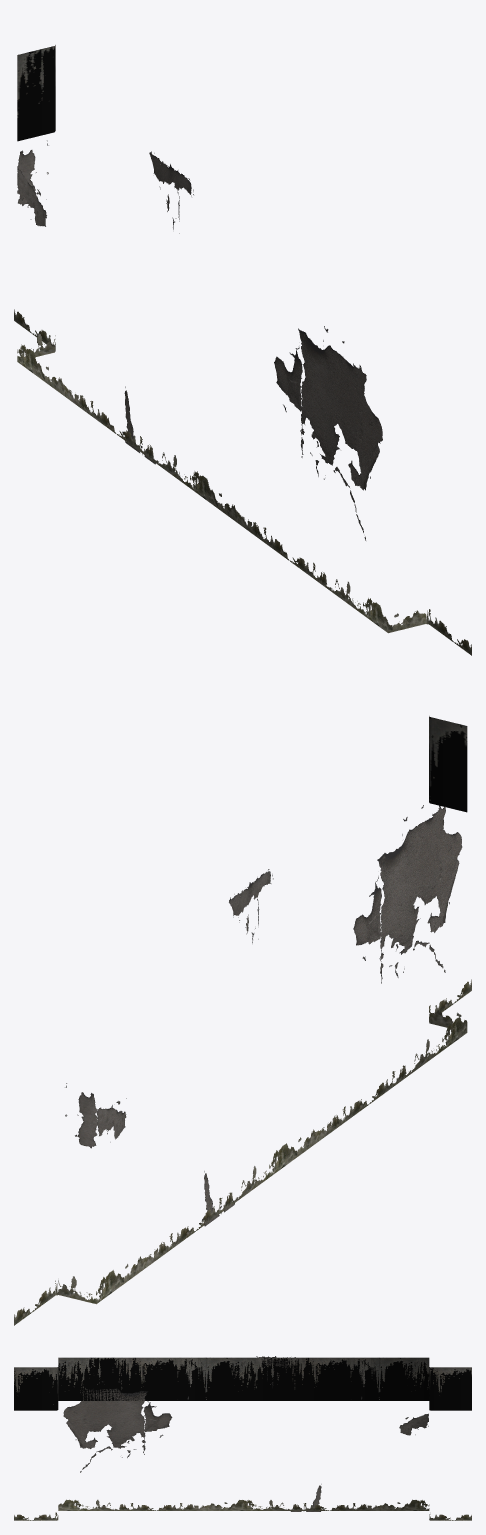
File: Decals_Wallclean.fbx
3 views of the same model, one above another, from view 1: azimuth 30°, elevation 25°; view 2: azimuth 150°, elevation 25°; view 3: azimuth 270°, elevation 25° (orthographic). The views are drawn at different scales.
Visible parts, largest first — view 1: Cube_010; view 2: Cube_010; view 3: Cube_010.
Boxes of the visible parts, bbox=[...] form: Cube_010: bbox=[14, 45, 471, 655]; Cube_010: bbox=[14, 716, 471, 1325]; Cube_010: bbox=[14, 1356, 471, 1520].
Size of the model in its own units: 1 by 7.59 by 20.
